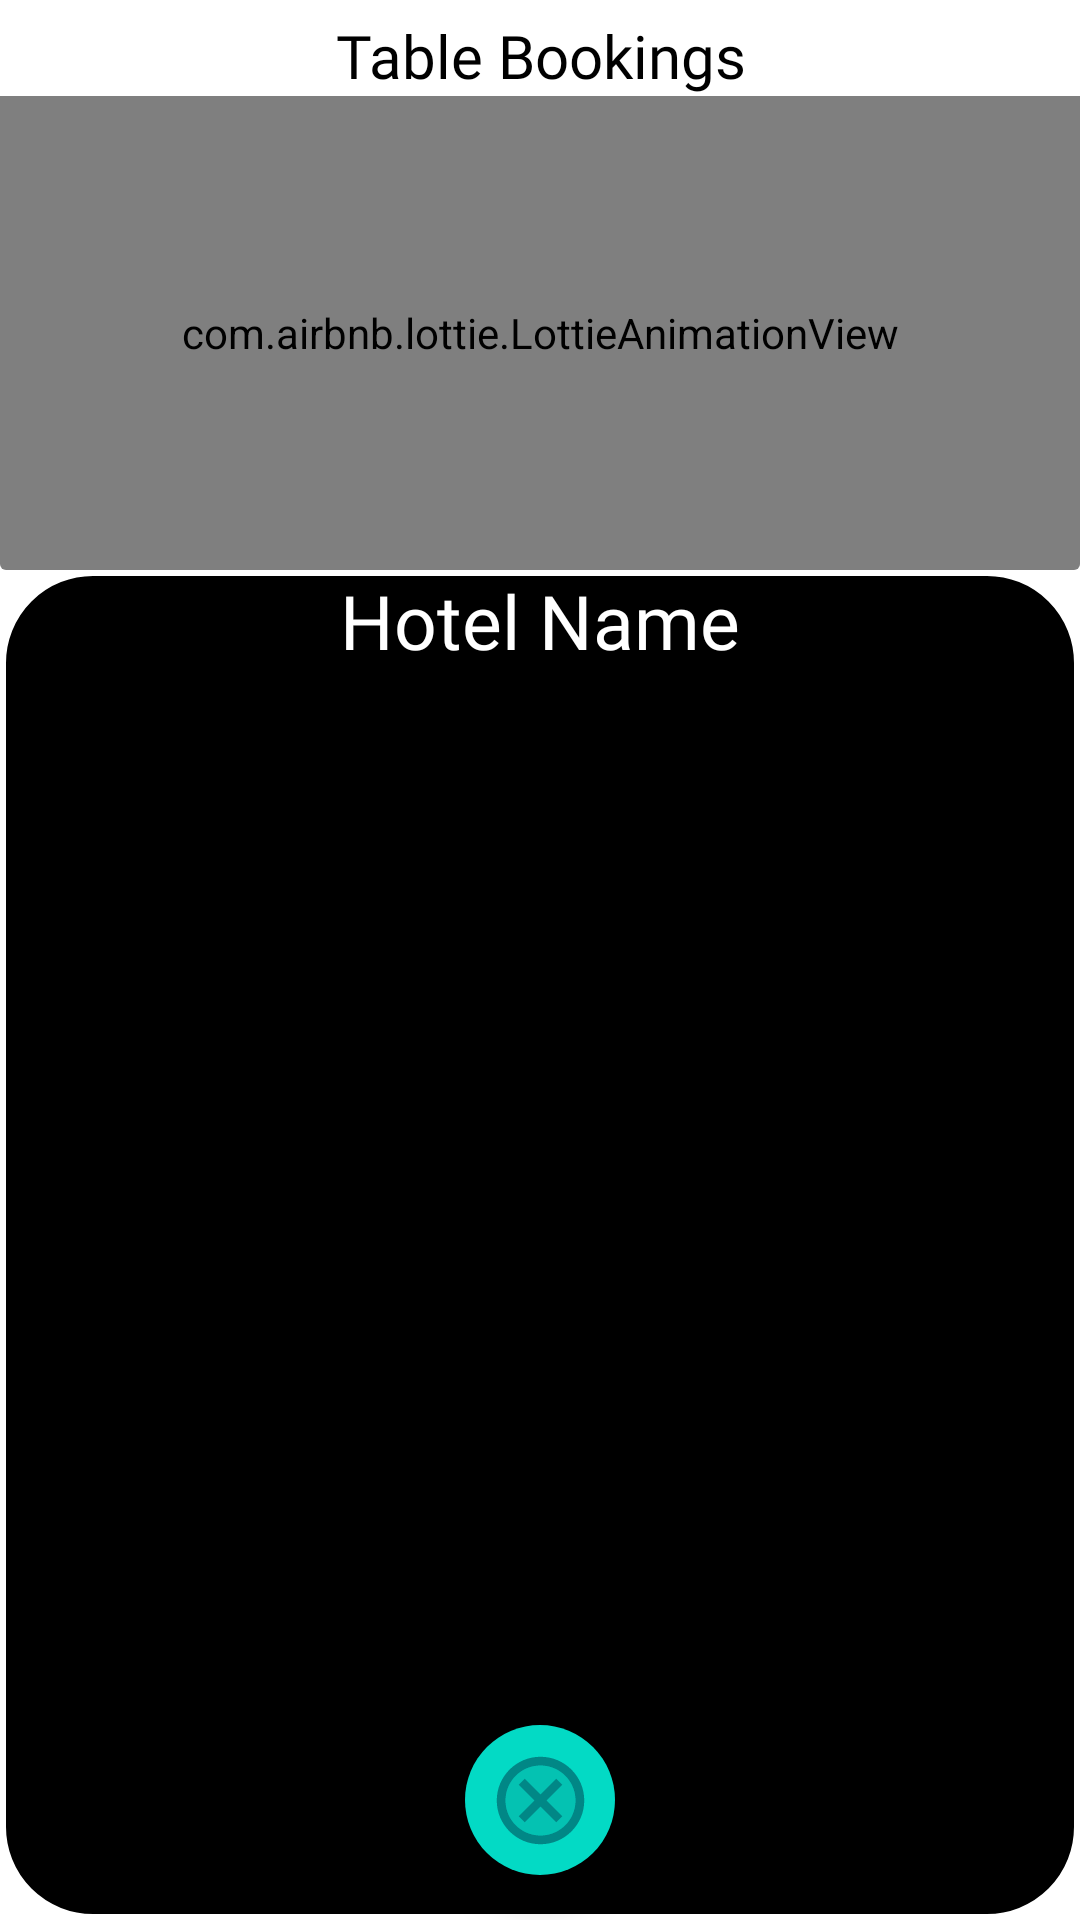

Where to tap for icons on this 1080*1920 app screen, as (x,y):
cancel: (540,1800)
